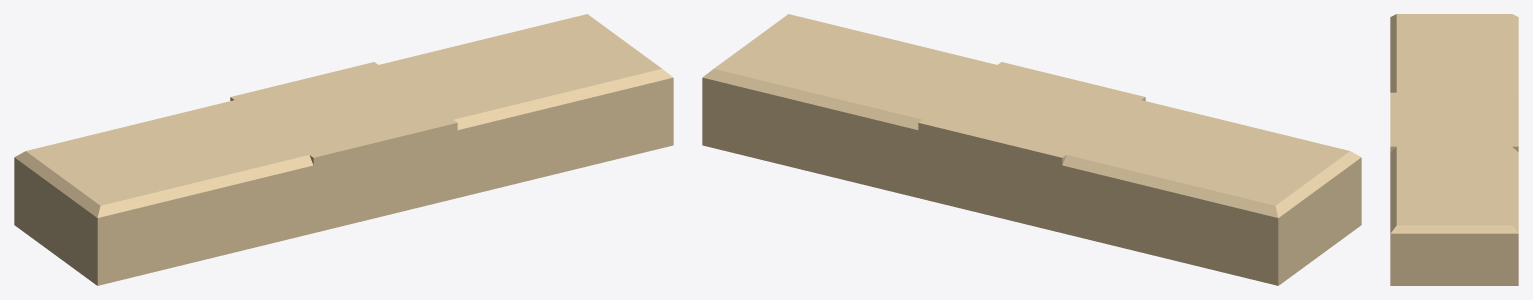
The model's file is Buttons.fbx.
3 renders of one model, left to right at view 1: azimuth 30°, elevation 25°; view 2: azimuth 150°, elevation 25°; view 3: azimuth 270°, elevation 25°, orthographic. The views are drawn at different scales.
Parts seen in each view (by area): view 1: SquareButton_0.2_4to1, SquareButton_0.1_4to1, KeyboardKeyRounded_0.1_4to1, KeyboardKey_0.1_4to1, SquareButton_0.1_3to1, SquareButton_0.2_2to1, SquareButton_0.2_3to1, SquareButton_0.2_3to2, SquareButton_0.1_2to1, KeyboardKeyRounded_3to2, SquareButton, SquareButtonPlunger_Rounded0.3_4to1 (+13 smaller); view 2: SquareButton_0.2_4to1, SquareButton_0.1_4to1, KeyboardKeyRounded_0.1_4to1, SquareButton_0.1_2to1, SquareButton_0.2_2to1, SquareButton_0.2_3to1, SquareButton_0.1_3to1, KeyboardKey_0.1_4to1, SquareButton, SquareButton_0.1, KeyboardKey_4to1, SquareButtonPlunger_Rounded0.3_4to1 (+15 smaller); view 3: SquareButton_0.2_4to1, SquareButton_0.1_4to1, KeyboardKeyRounded_0.1_4to1, KeyboardKey_0.1_4to1, SquareButton_0.2_2to1, SquareButton_0.1_3to1, KeyboardKeyRounded_0.1_2to1, KeyboardKey_4to1, KeyboardKeyRounded_4to1, SquareButton_0.1_3to2, SquareButton_0.2_3to1, SquareButton (+16 smaller).
Part boxes in pixels (bbox=[...]): SquareButton_0.2_4to1: bbox=[14, 19, 673, 285]; SquareButton_0.1_4to1: bbox=[14, 14, 673, 284]; KeyboardKeyRounded_0.1_4to1: bbox=[54, 25, 627, 190]; KeyboardKey_0.1_4to1: bbox=[83, 24, 603, 190]; SquareButton_0.1_3to1: bbox=[98, 31, 601, 222]; SquareButton_0.2_2to1: bbox=[198, 55, 529, 249]; SquareButton_0.2_3to1: bbox=[165, 40, 601, 260]; SquareButton_0.2_3to2: bbox=[234, 66, 493, 241]; SquareButton_0.1_2to1: bbox=[170, 49, 529, 247]; KeyboardKeyRounded_3to2: bbox=[232, 65, 455, 140]; SquareButton: bbox=[230, 62, 457, 189]; SquareButtonPlunger_Rounded0.3_4to1: bbox=[27, 106, 650, 250]; SquareButton_0.2_4to1: bbox=[702, 19, 1361, 285]; SquareButton_0.1_4to1: bbox=[702, 14, 1361, 285]; KeyboardKeyRounded_0.1_4to1: bbox=[742, 30, 1311, 193]; SquareButton_0.1_2to1: bbox=[858, 50, 1205, 249]; SquareButton_0.2_2to1: bbox=[852, 57, 1134, 250]; SquareButton_0.2_3to1: bbox=[838, 37, 1242, 267]; SquareButton_0.1_3to1: bbox=[786, 32, 1277, 266]; KeyboardKey_0.1_4to1: bbox=[741, 30, 1317, 193]; SquareButton: bbox=[918, 62, 1145, 232]; SquareButton_0.1: bbox=[973, 67, 1133, 232]; KeyboardKey_4to1: bbox=[729, 26, 1283, 195]; SquareButtonPlunger_Rounded0.3_4to1: bbox=[724, 111, 1348, 246]; SquareButton_0.2_4to1: bbox=[1390, 16, 1518, 285]; SquareButton_0.1_4to1: bbox=[1390, 14, 1518, 285]; KeyboardKeyRounded_0.1_4to1: bbox=[1418, 21, 1500, 218]; KeyboardKey_0.1_4to1: bbox=[1418, 21, 1500, 218]; SquareButton_0.2_2to1: bbox=[1403, 71, 1505, 168]; SquareButton_0.1_3to1: bbox=[1390, 41, 1518, 206]; KeyboardKeyRounded_0.1_2to1: bbox=[1419, 75, 1500, 163]; KeyboardKey_4to1: bbox=[1412, 18, 1506, 220]; KeyboardKeyRounded_4to1: bbox=[1412, 18, 1506, 220]; SquareButton_0.1_3to2: bbox=[1390, 81, 1518, 165]; SquareButton_0.2_3to1: bbox=[1403, 43, 1504, 147]; SquareButton: bbox=[1390, 92, 1518, 151].
Size of the model in its own units: 800 by 120 by 200.
